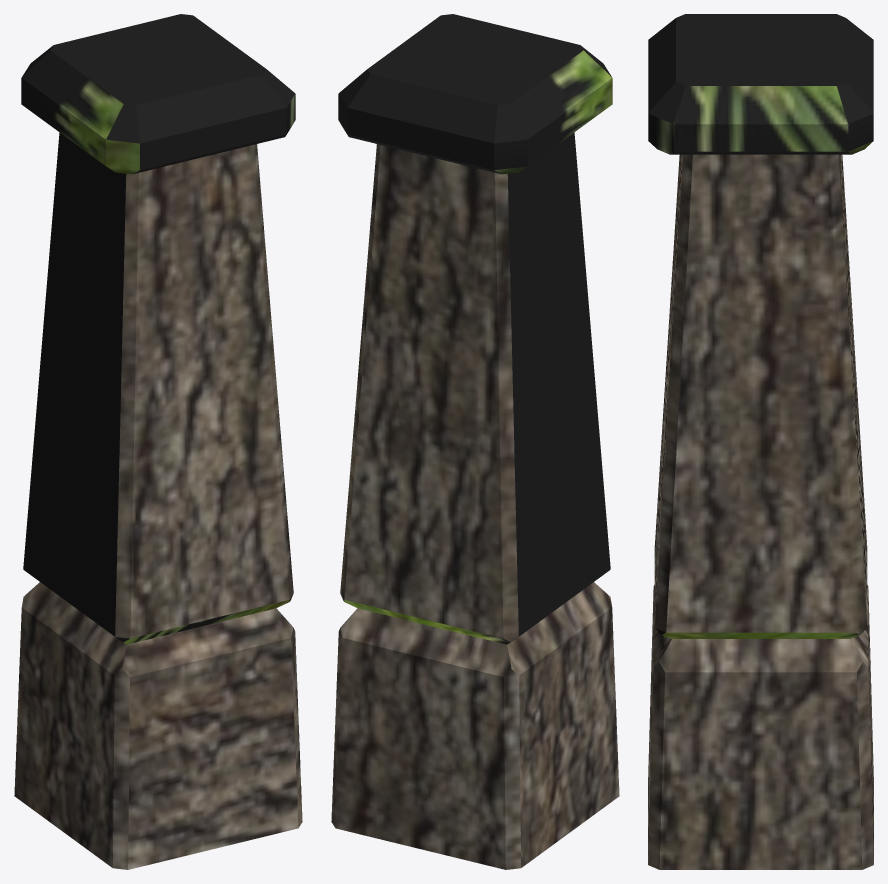
Rendered from columna1.gltf.
3 views of the same model, side by side, from view 1: azimuth 30°, elevation 25°; view 2: azimuth 150°, elevation 25°; view 3: azimuth 270°, elevation 25° (orthographic). The views are drawn at different scales.
Visible parts, largest first — view 1: Fence_Column1.002; view 2: Fence_Column1.002; view 3: Fence_Column1.002.
Boxes of the visible parts, x1,y1,x2,y2 form: Fence_Column1.002: (14, 14, 302, 869); Fence_Column1.002: (331, 14, 619, 869); Fence_Column1.002: (648, 14, 873, 869).
Size of the model in its own units: 0.6597 by 2.49 by 0.6597.
